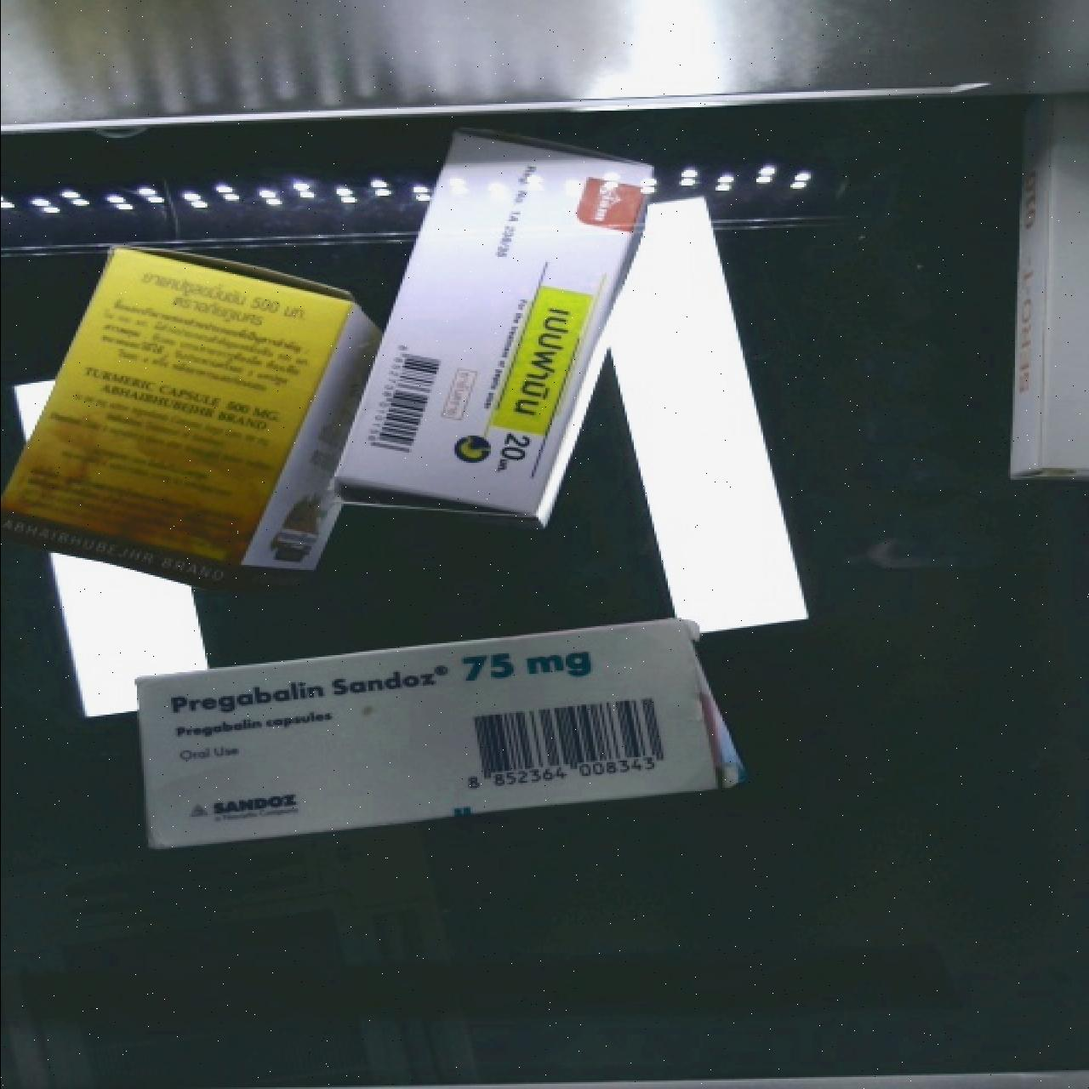medicine_label_obb: (135, 627, 617, 735), (456, 263, 604, 504)
